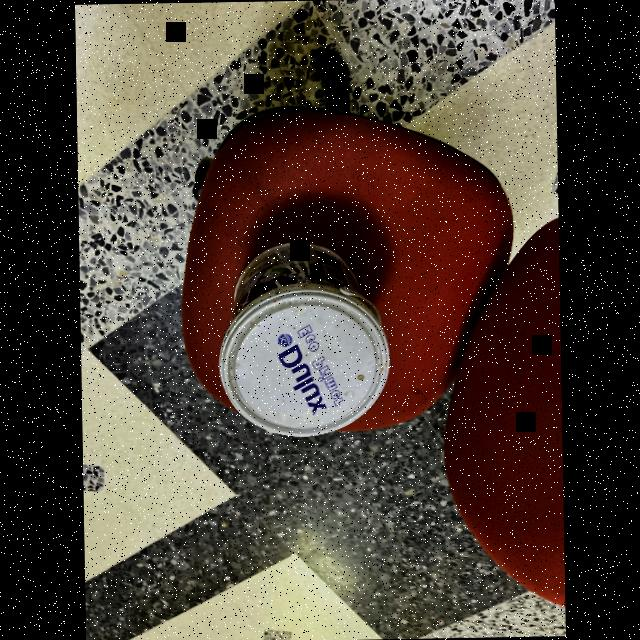paint_bucket: (217, 240, 396, 442)
